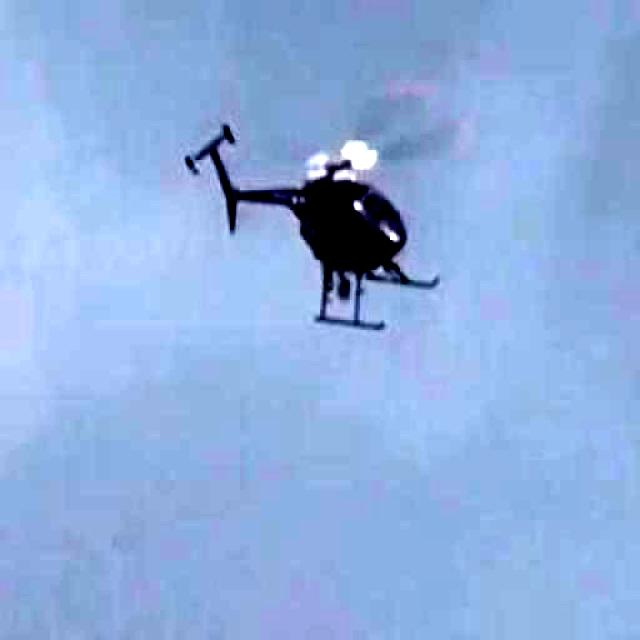drone: (124, 31, 490, 371)
